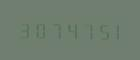five: (92, 20, 106, 40)
four: (62, 19, 76, 40)
one: (107, 20, 121, 40)
seven: (47, 19, 61, 39), (77, 20, 91, 40)
three: (17, 19, 31, 39)
zero: (32, 19, 46, 39)
